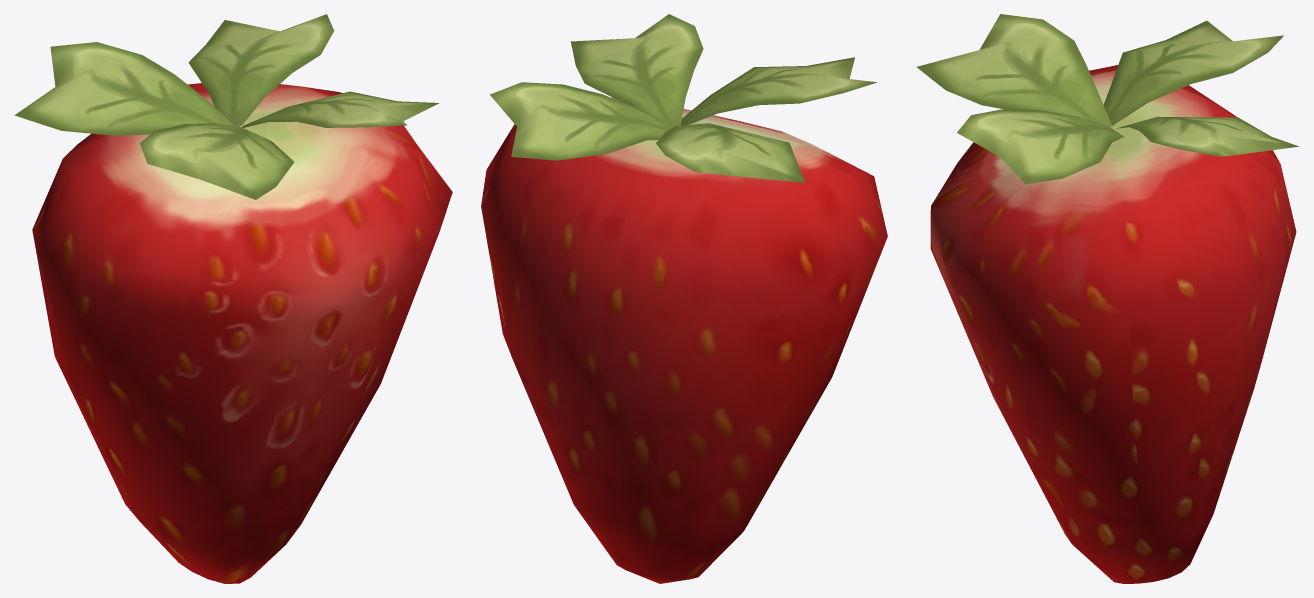
The model's file is strawberry.fbx.
3 renders of one model, left to right at view 1: azimuth 30°, elevation 25°; view 2: azimuth 150°, elevation 25°; view 3: azimuth 270°, elevation 25°, orthographic. The views are drawn at different scales.
Visible parts, largest first — view 1: strawberry; view 2: strawberry; view 3: strawberry.
Boxes of the visible parts, x1,y1,x2,y2 form: strawberry: [14, 14, 452, 583]; strawberry: [481, 14, 887, 583]; strawberry: [916, 14, 1298, 583].
Size of the model in its own units: 6.08 by 7.55 by 5.29.
